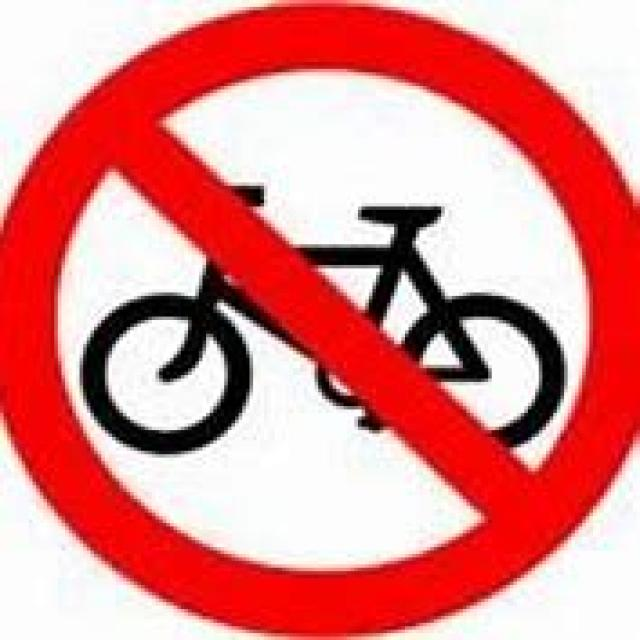cycle_prohibited: (0, 0, 636, 636)
